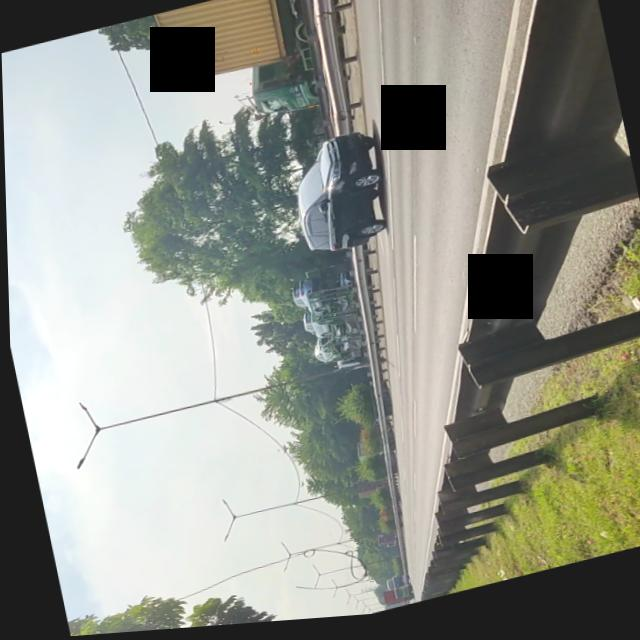Golongan I: (277, 126, 404, 266)
